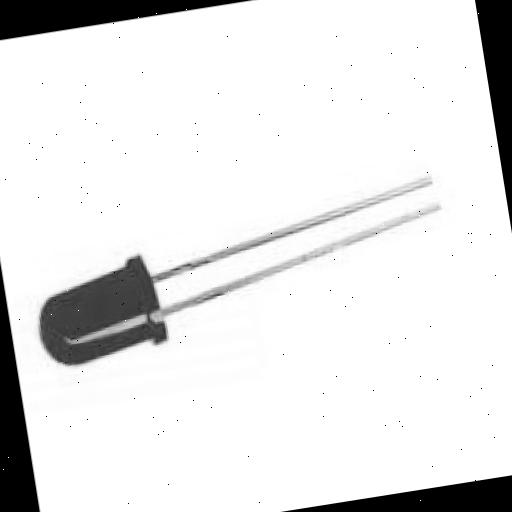LED: (5, 128, 497, 447)
